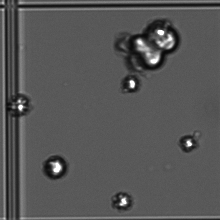Living Cell: (124, 34, 168, 71), (148, 21, 180, 51), (5, 92, 35, 120), (42, 153, 68, 179), (112, 190, 133, 210), (178, 132, 199, 152), (121, 74, 141, 92)
